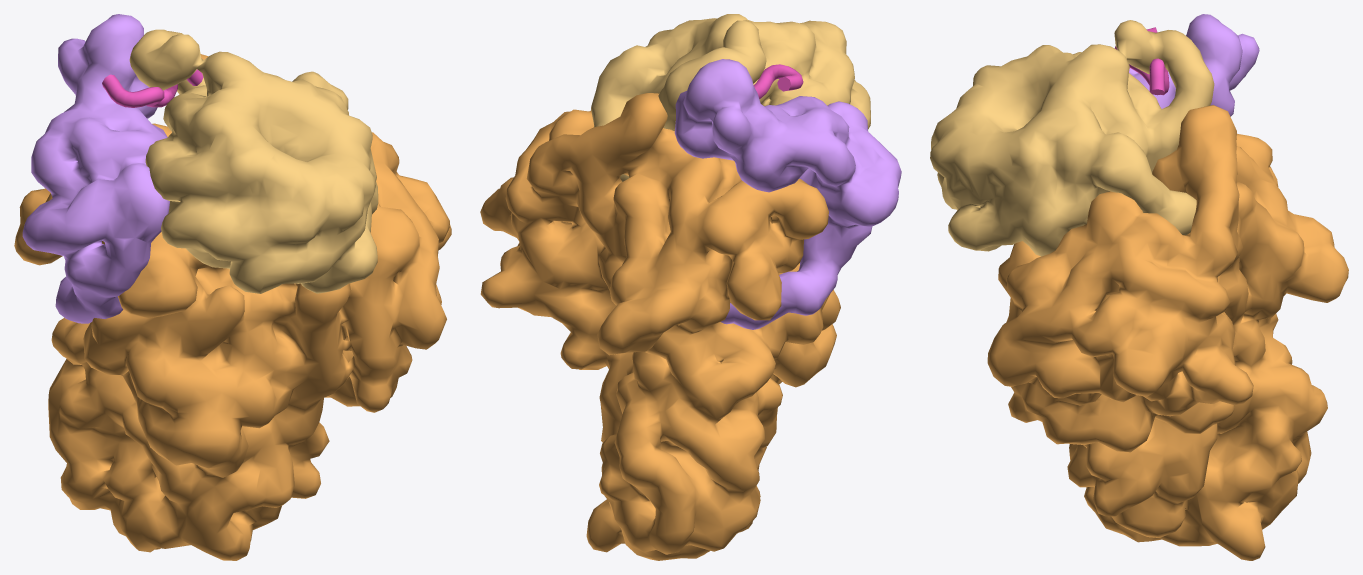
File: termination-6dnh.glb
3 renders of one model, left to right at view 1: azimuth 30°, elevation 25°; view 2: azimuth 150°, elevation 25°; view 3: azimuth 270°, elevation 25°, orthographic. The views are drawn at different scales.
Parts seen in each view (by area): view 1: term_cpsf160, term_wdr33, term_cpsf30, term_rna; view 2: term_cpsf160, term_cpsf30, term_wdr33, term_rna; view 3: term_cpsf160, term_wdr33, term_cpsf30, term_rna.
Boxes of the visible parts, x1,y1,x2,y2 form: term_cpsf160: (14, 54, 451, 560); term_wdr33: (129, 29, 378, 293); term_cpsf30: (22, 14, 169, 323); term_rna: (102, 69, 203, 107); term_cpsf160: (480, 93, 840, 560); term_cpsf30: (674, 59, 901, 329); term_wdr33: (591, 14, 870, 181); term_rna: (753, 64, 803, 98); term_cpsf160: (987, 105, 1348, 560); term_wdr33: (930, 20, 1214, 256); term_cpsf30: (1129, 14, 1259, 116); term_rna: (1114, 27, 1169, 95).
Bounding box in the file's own units: 2.3 × 2.79 × 2.1.
